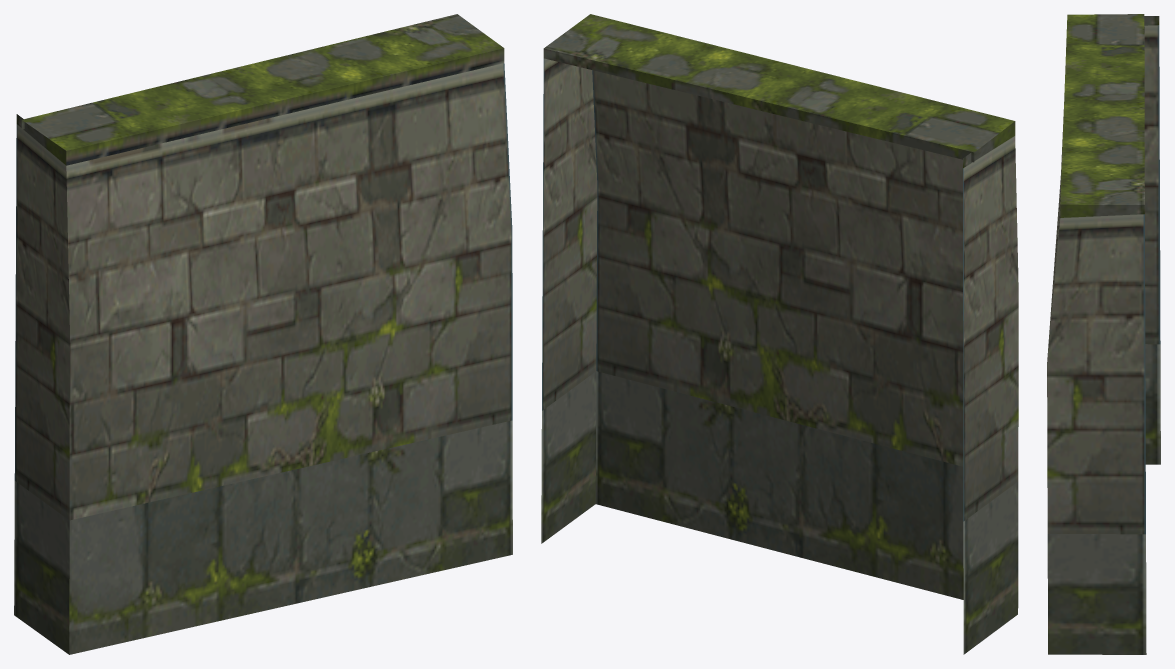
The model's file is jd_piao_3.FBX.
3 renders of one model, left to right at view 1: azimuth 30°, elevation 25°; view 2: azimuth 150°, elevation 25°; view 3: azimuth 270°, elevation 25°, orthographic. The views are drawn at different scales.
Parts seen in each view (by area): view 1: jd_piao_3; view 2: jd_piao_3; view 3: jd_piao_3.
Boxes of the visible parts, x1,y1,x2,y2 form: jd_piao_3: (14,14,512,654); jd_piao_3: (541,14,1018,654); jd_piao_3: (1047,14,1160,654).
Size of the model in its own units: 437 by 480 by 110.
